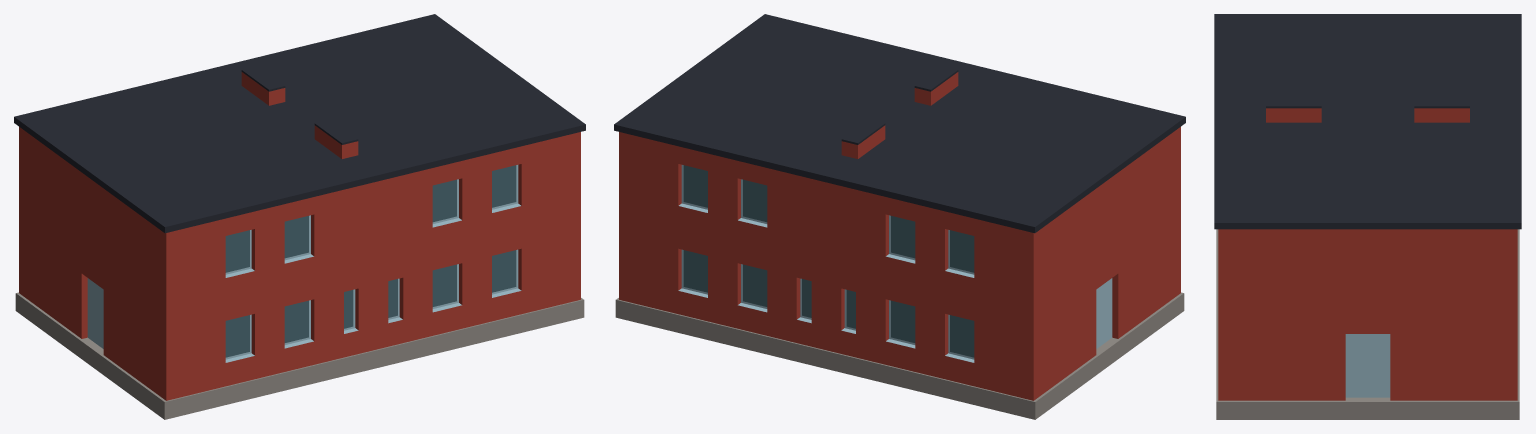
File: house_bata_05.fbx
3 renders of one model, left to right at view 1: azimuth 30°, elevation 25°; view 2: azimuth 150°, elevation 25°; view 3: azimuth 270°, elevation 25°, orthographic.
Visible parts, largest first — view 1: bata_house_05; view 2: bata_house_05; view 3: bata_house_05.
Boxes of the visible parts, <box> form: bata_house_05: <box>14,14,585,419</box>; bata_house_05: <box>614,14,1185,419</box>; bata_house_05: <box>1214,14,1521,419</box>.
Size of the model in its own units: 1549 by 737 by 961.
